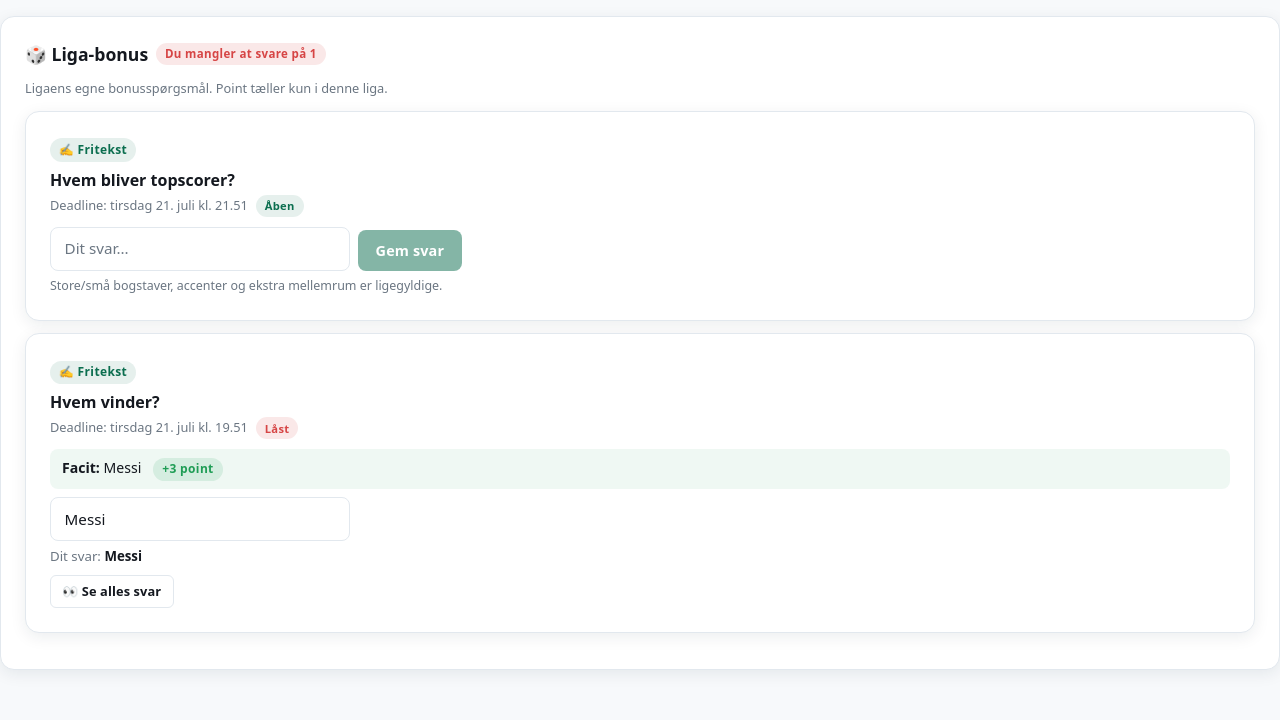
Test: LeagueBonus › afslører alles svar på låst spørgsmål med navne
Click the button with test id "reveal-league-bonus-answers-btn" at coordinates (112, 592), box [50,575,174,608]
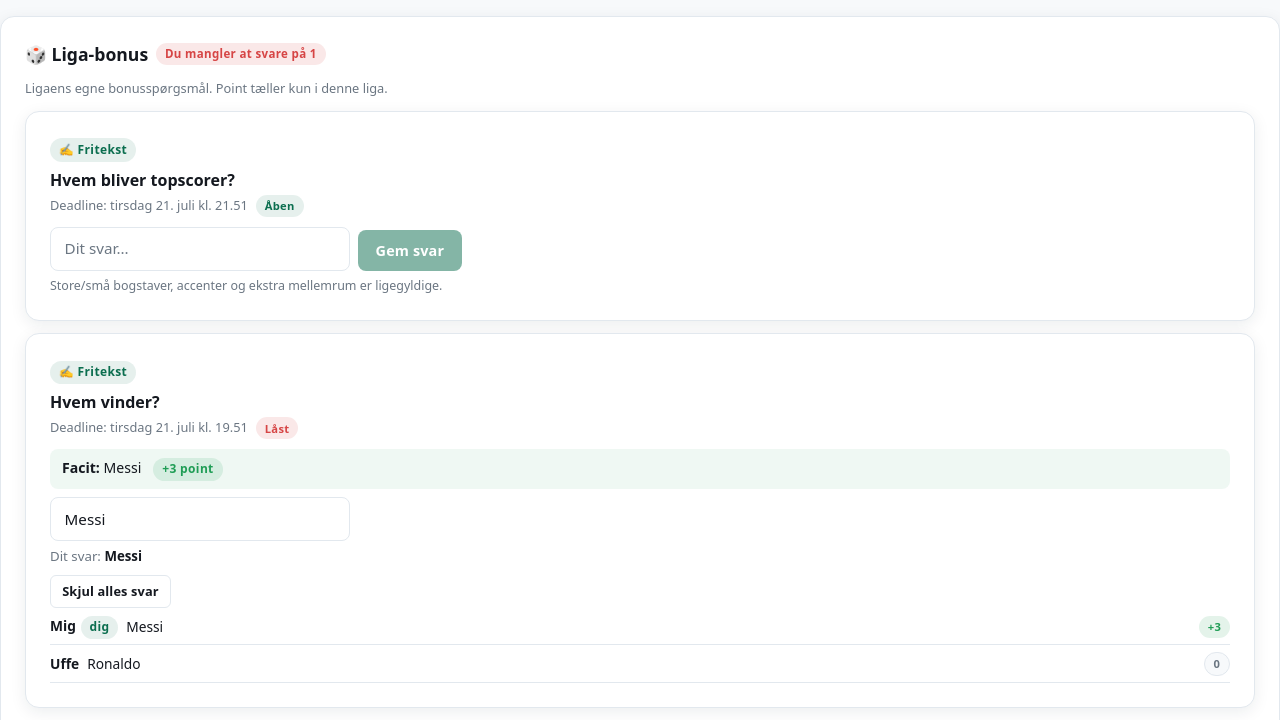
Expected: the number of list items with test id "league-bonus-answer-row" is 2, [50,616,1230,646]; [50,652,1230,682]
Expected: the text "Uffe" is shown, [50,654,79,674]
